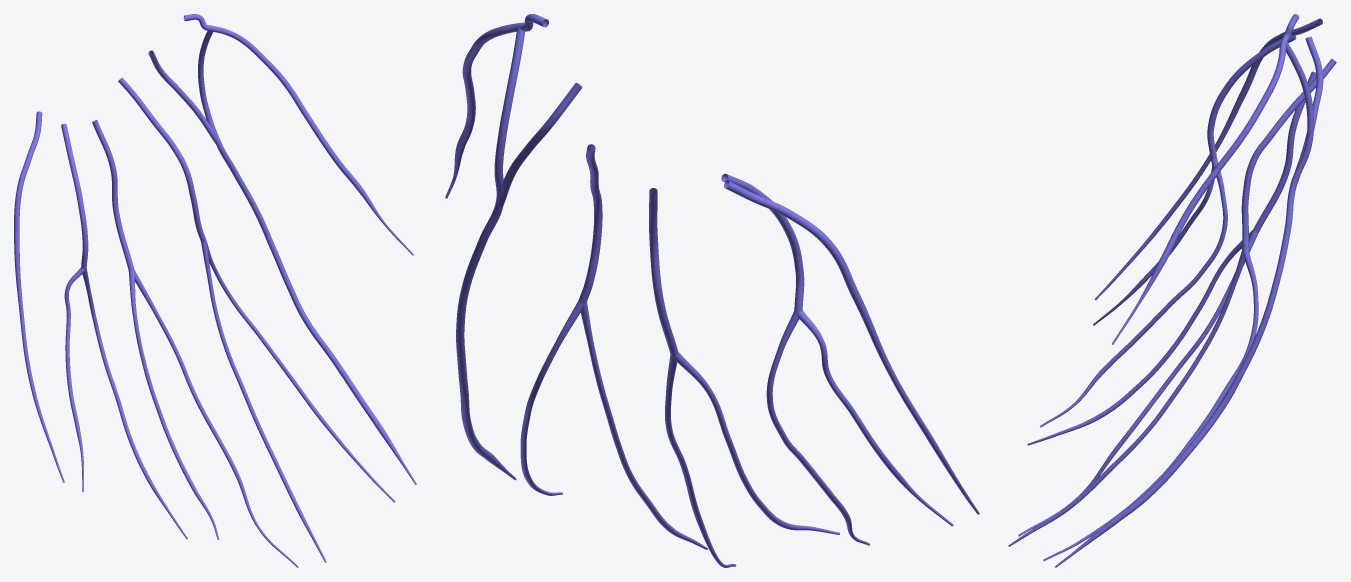
Rendered from Palmar_digital_veins.l_BezierCurve.377.glb.
3 views of the same model, side by side, from view 1: azimuth 30°, elevation 25°; view 2: azimuth 150°, elevation 25°; view 3: azimuth 270°, elevation 25° (orthographic). The views are drawn at different scales.
Visible parts, largest first — view 1: Palmar_digital_veins.l_BezierCurve.377; view 2: Palmar_digital_veins.l_BezierCurve.377; view 3: Palmar_digital_veins.l_BezierCurve.377.
Part boxes in pixels (box(x1,y1,x2,y2)): Palmar_digital_veins.l_BezierCurve.377: box(14, 14, 416, 567); Palmar_digital_veins.l_BezierCurve.377: box(445, 14, 979, 567); Palmar_digital_veins.l_BezierCurve.377: box(1008, 14, 1336, 567).
Size of the model in its own units: 0.0999 by 0.1225 by 0.0692.
